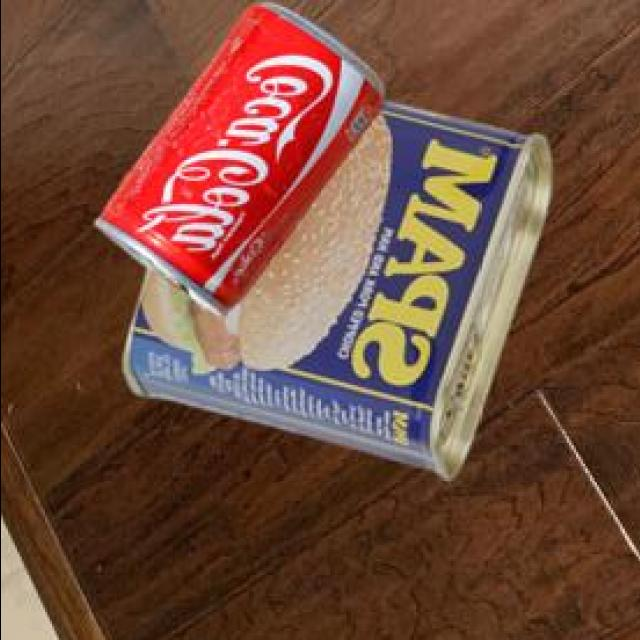logam: (119, 99, 546, 474), (92, 0, 379, 312)
